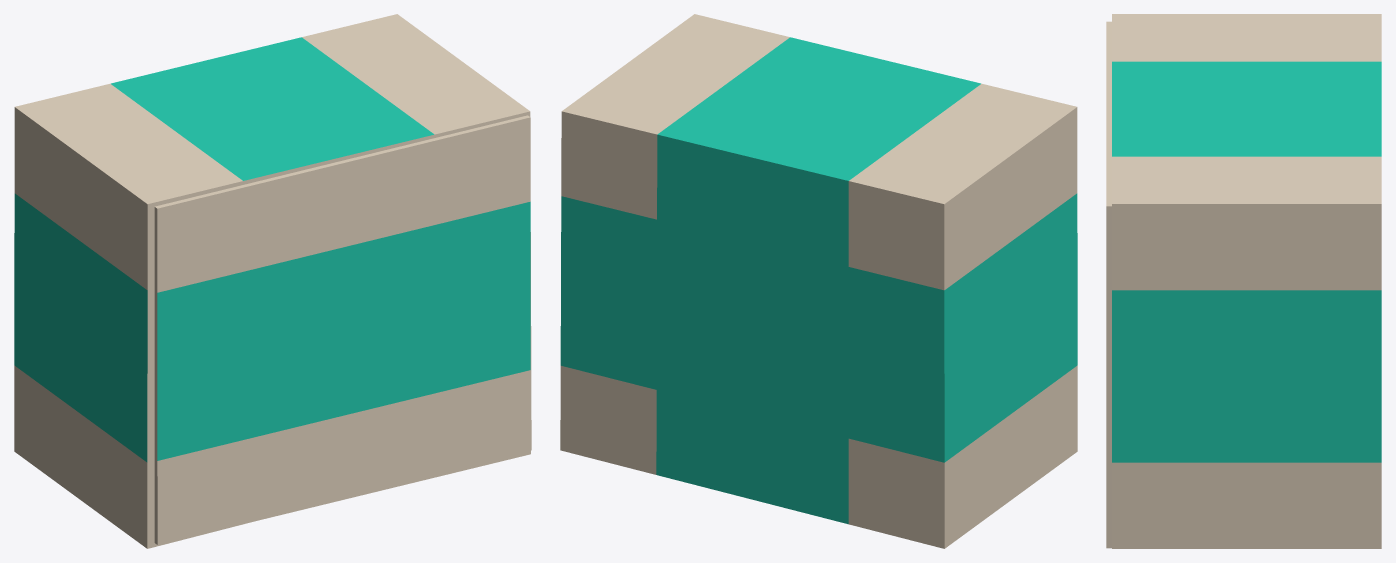
File: PackingBoxClosed.fbx
3 views of the same model, side by side, from view 1: azimuth 30°, elevation 25°; view 2: azimuth 150°, elevation 25°; view 3: azimuth 270°, elevation 25° (orthographic).
Parts seen in each view (by area): view 1: PackingBoxTop.001, PackingBoxOpenBase.001; view 2: PackingBoxOpenBase.001; view 3: PackingBoxOpenBase.001, PackingBoxTop.001.
Boxes of the visible parts, <box> form: PackingBoxTop.001: <box>154,115,530,544</box>; PackingBoxOpenBase.001: <box>14,14,531,548</box>; PackingBoxOpenBase.001: <box>560,14,1077,548</box>; PackingBoxOpenBase.001: <box>1112,14,1381,548</box>; PackingBoxTop.001: <box>1106,21,1111,548</box>.
Size of the model in its own units: 11763 by 10085 by 7203.
